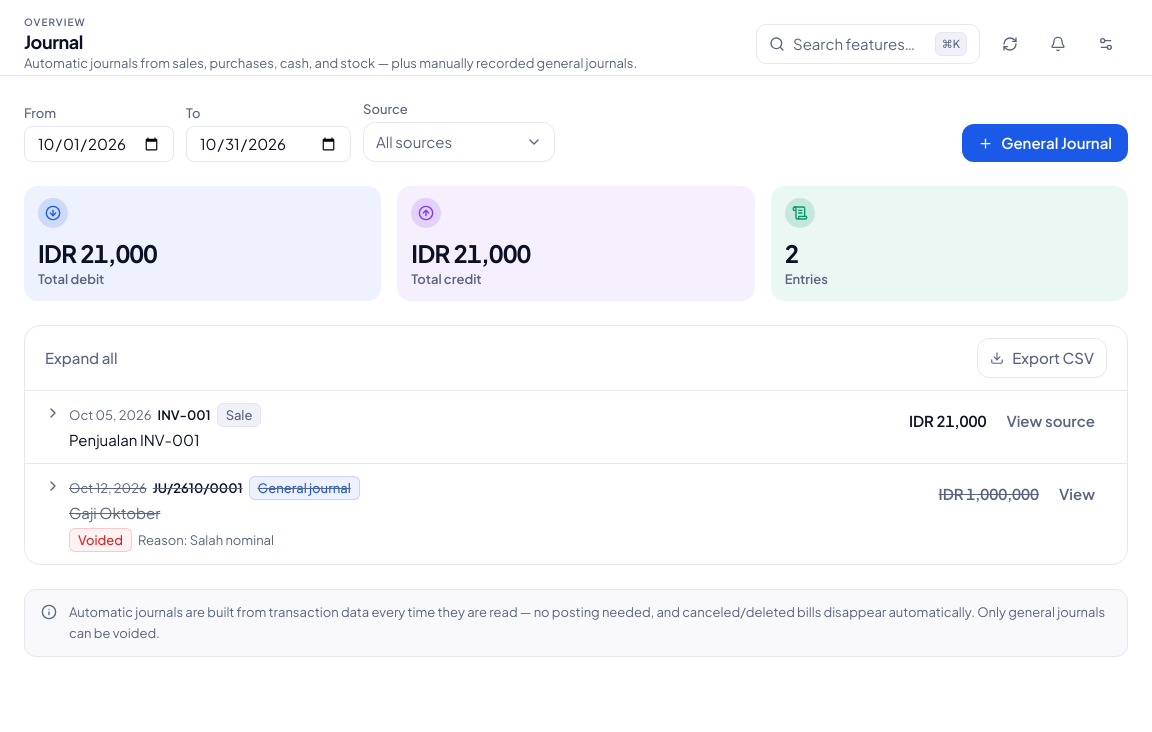
Test: smoke halaman baru › JournalPage: entri otomatis & jurnal umum batal, baris D/K bisa dibuka
Click the button "Expand all".
click(81, 358)  # box [45,347,118,369]
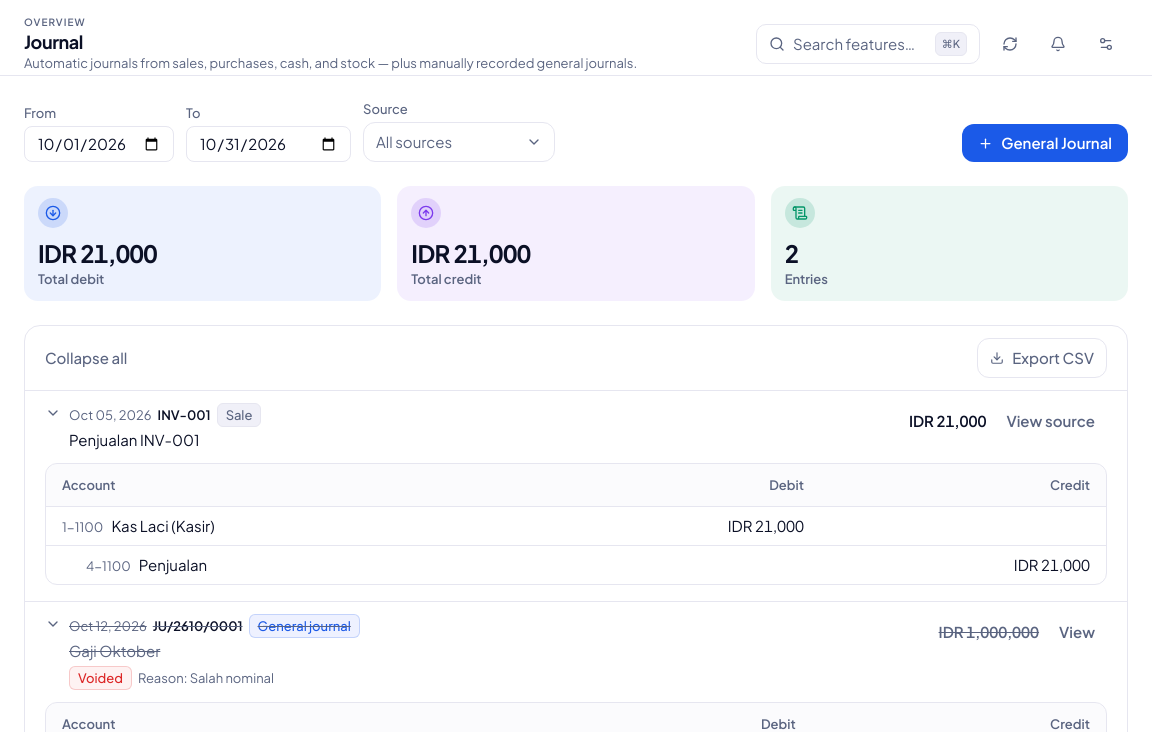
Result: the text "4-1100" is shown at [86,558,131,574]
